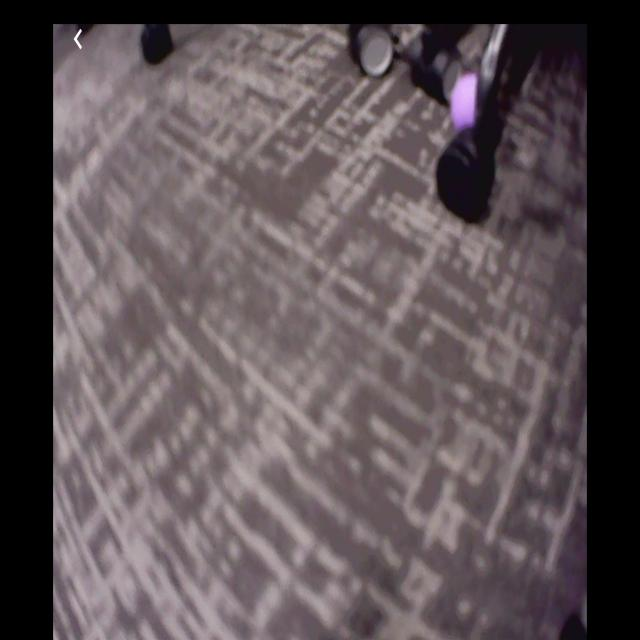ball: (451, 72, 484, 134)
